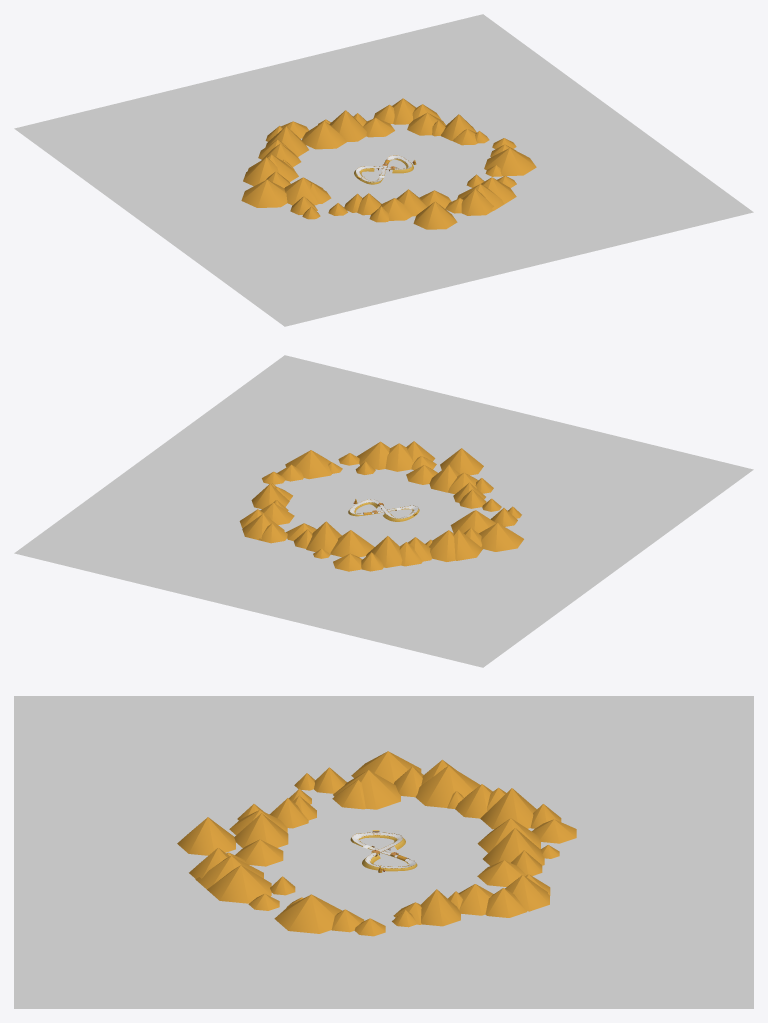
The model's file is bake.glb.
3 renders of one model, top to bottom at view 1: azimuth 30°, elevation 25°; view 2: azimuth 150°, elevation 25°; view 3: azimuth 270°, elevation 25°, orthographic. The views are drawn at different scales.
Parts seen in each view (by area): view 1: bk0031, bk0055, bk0035, bk0065, bk0044, bk0067, bk0041, bk0054, bk0057, bk0062; view 2: bk0031, bk0055, bk0035, bk0065, bk0067, bk0044, bk0062, bk0058, bk0054, bk0040, bk0057, bk0039 (+1 smaller); view 3: bk0031, bk0035, bk0039, bk0058, bk0044, bk0062, bk0054, bk0067, bk0045, bk0075, bk0055, bk0071 (+12 smaller).
Boxes of the visible parts, bbox=[...] form: bk0031: bbox=[14, 14, 753, 326]; bk0055: bbox=[241, 179, 287, 207]; bk0035: bbox=[484, 148, 536, 176]; bk0065: bbox=[302, 121, 346, 149]; bk0044: bbox=[413, 201, 457, 229]; bk0067: bbox=[329, 110, 366, 141]; bk0041: bbox=[461, 189, 493, 215]; bk0054: bbox=[284, 177, 323, 205]; bk0057: bbox=[243, 157, 278, 186]; bk0062: bbox=[265, 126, 308, 156]; bk0031: bbox=[14, 355, 753, 667]; bk0055: bbox=[479, 523, 523, 551]; bk0035: bbox=[285, 450, 331, 479]; bk0065: bbox=[330, 530, 374, 557]; bk0067: bbox=[306, 521, 341, 553]; bk0044: bbox=[440, 448, 483, 475]; bk0062: bbox=[366, 536, 402, 567]; bk0058: bbox=[429, 530, 455, 561]; bk0054: bbox=[450, 510, 496, 533]; bk0040: bbox=[385, 443, 413, 471]; bk0057: bbox=[453, 529, 482, 560]; bk0039: bbox=[357, 441, 389, 469]; bk0031: bbox=[14, 696, 753, 1008]; bk0035: bbox=[274, 894, 341, 933]; bk0039: bbox=[207, 865, 271, 903]; bk0058: bbox=[415, 765, 479, 807]; bk0044: bbox=[177, 817, 235, 855]; bk0062: bbox=[480, 788, 536, 829]; bk0054: bbox=[333, 770, 400, 809]; bk0067: bbox=[483, 828, 544, 865]; bk0045: bbox=[234, 813, 288, 847]; bk0075: bbox=[420, 889, 460, 926]; bk0055: bbox=[351, 751, 421, 783]; bk0071: bbox=[505, 875, 549, 911].
Bounding box in the file's own units: 4000 × 189 × 4000.
